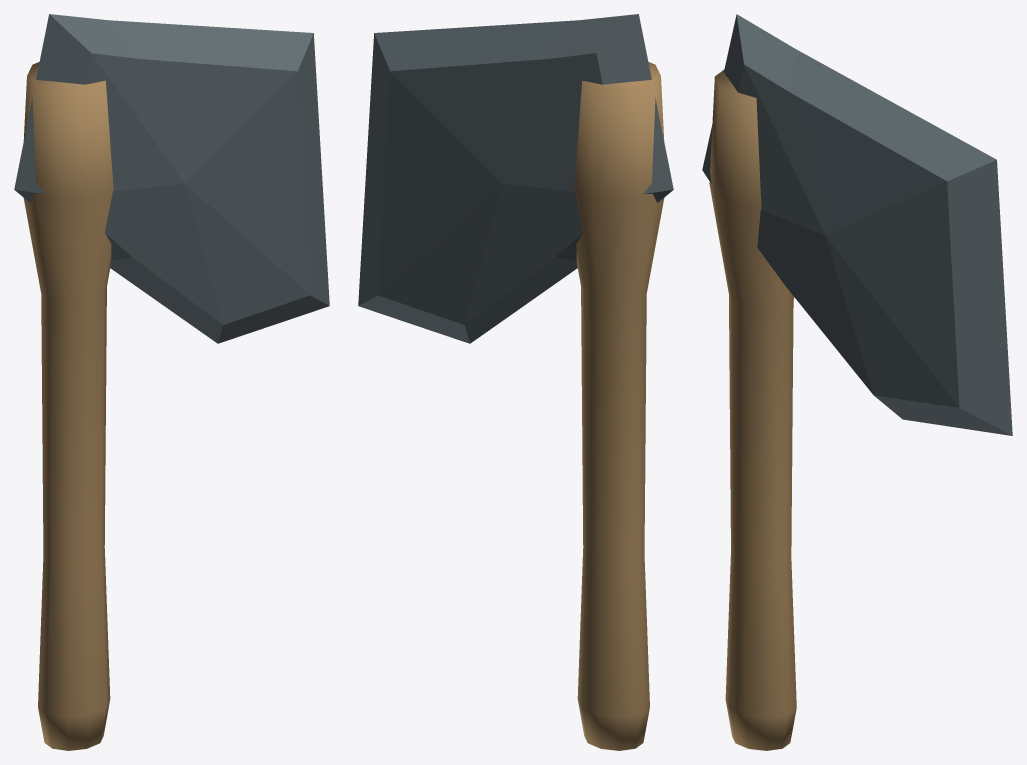
File: primitive_stone_axe_lod0.glb
3 renders of one model, left to right at view 1: azimuth 30°, elevation 25°; view 2: azimuth 150°, elevation 25°; view 3: azimuth 330°, elevation 25°, orthographic.
Parts seen in each view (by area): view 1: primitive_stone_axe_lod0; view 2: primitive_stone_axe_lod0; view 3: primitive_stone_axe_lod0.
Boxes of the visible parts, x1,y1,x2,y2 form: primitive_stone_axe_lod0: (14,14,329,750); primitive_stone_axe_lod0: (358,14,673,750); primitive_stone_axe_lod0: (702,14,1012,750).
Bounding box in the file's own units: 0.316 × 0.7 × 0.08.
